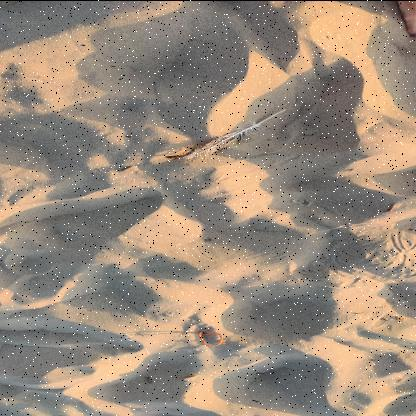other: (198, 330, 226, 346)
